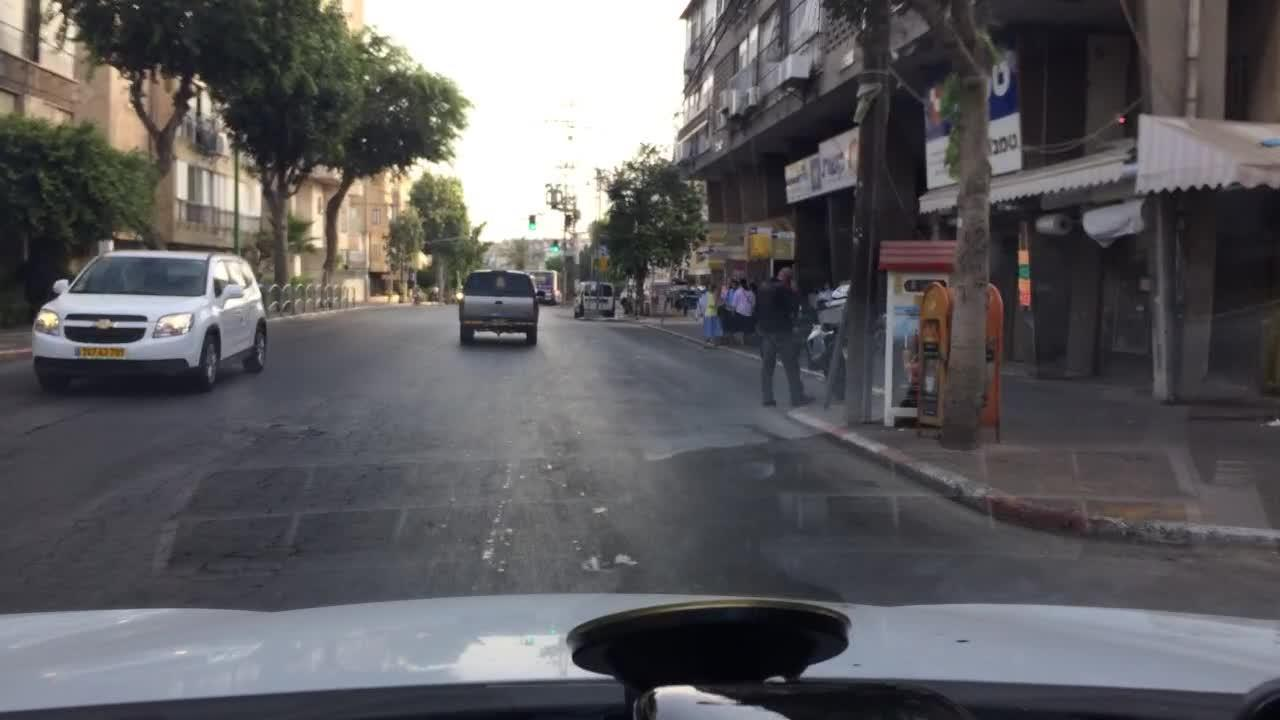chevrolet: (89, 316, 118, 336)
